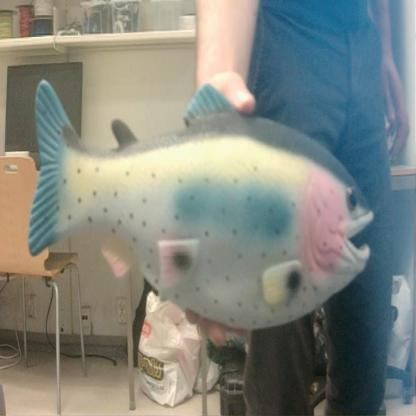rubberfish: (25, 72, 378, 336)
